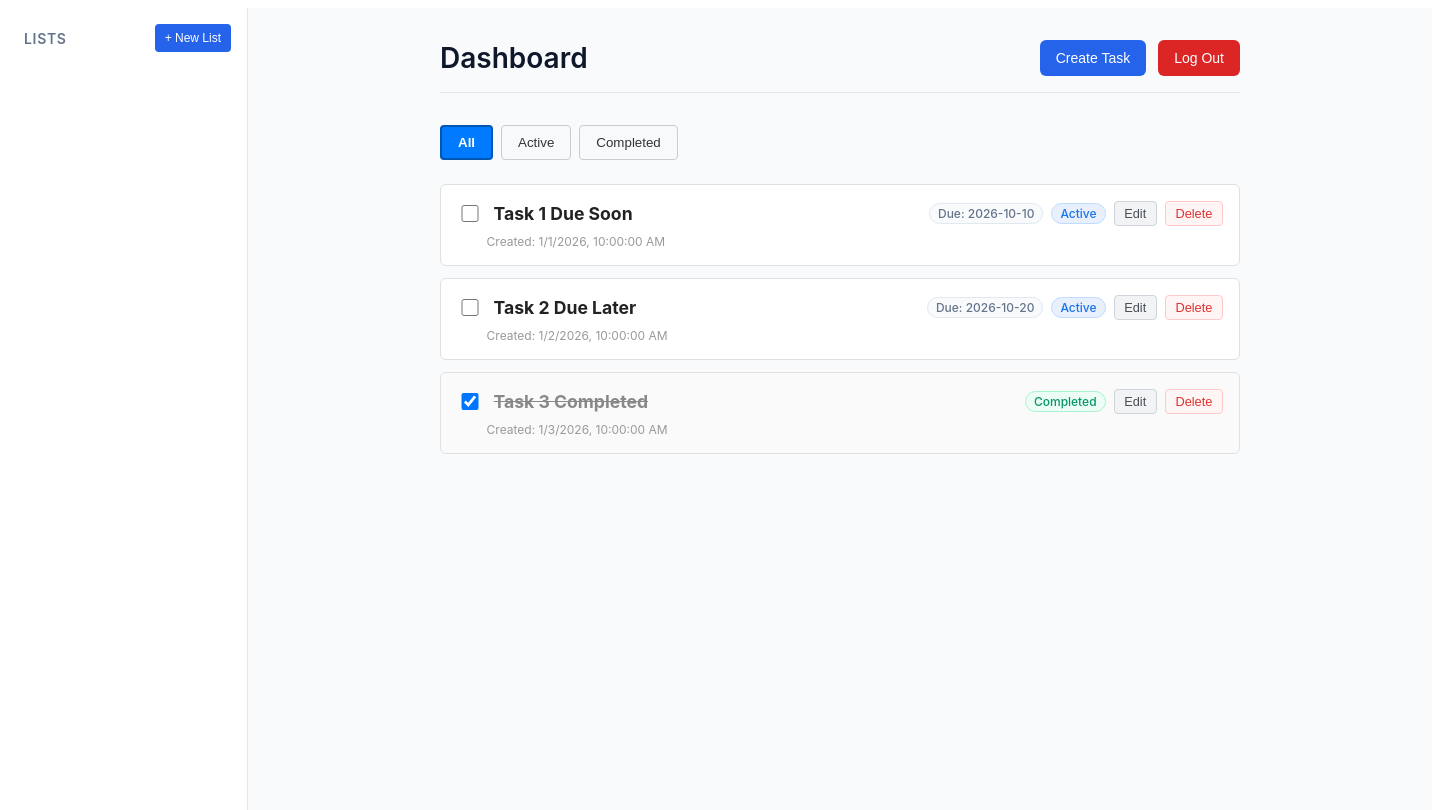
Test case: Dashboard Deadline-Aware Ordering Preservation (T4 / AC-1 & AC-2) › maintains ordering when an active task is marked completed, moving it to bottom
expect the heading "Task 1 Due Soon" is shown: met, box [494,203,633,224]
Click the checkbox named "Toggle task \"Task 1 Due Soon\"" at (470, 214), box [461,205,479,222]
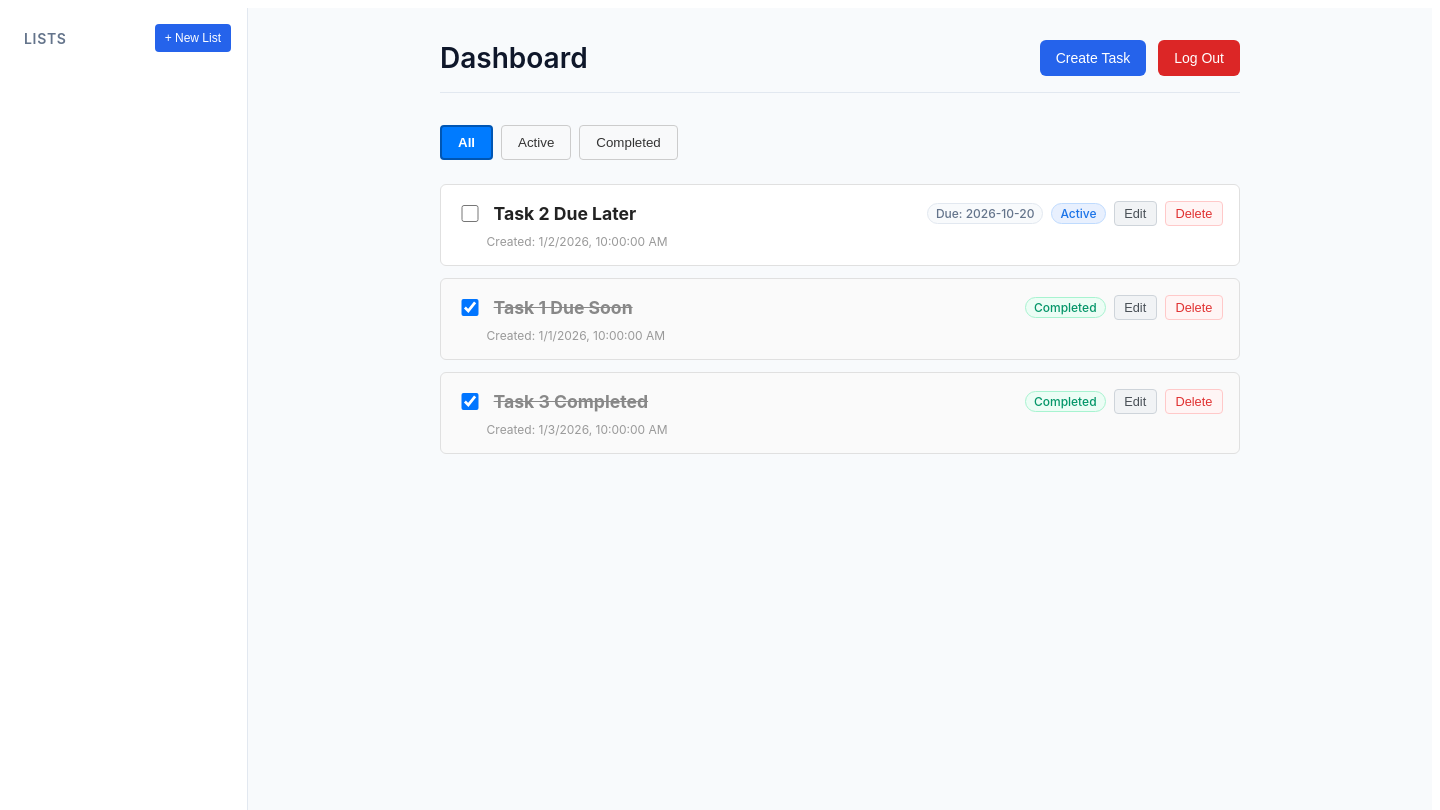
expect the heading "Task 2 Due Later" is shown: met, box [494,203,636,224]
expect the headings read "Task 2 Due Later", "Task 1 Due Soon", "Task 3 Completed", in this order: met, box [494,203,636,224]; [494,297,633,318]; [494,391,648,412]
